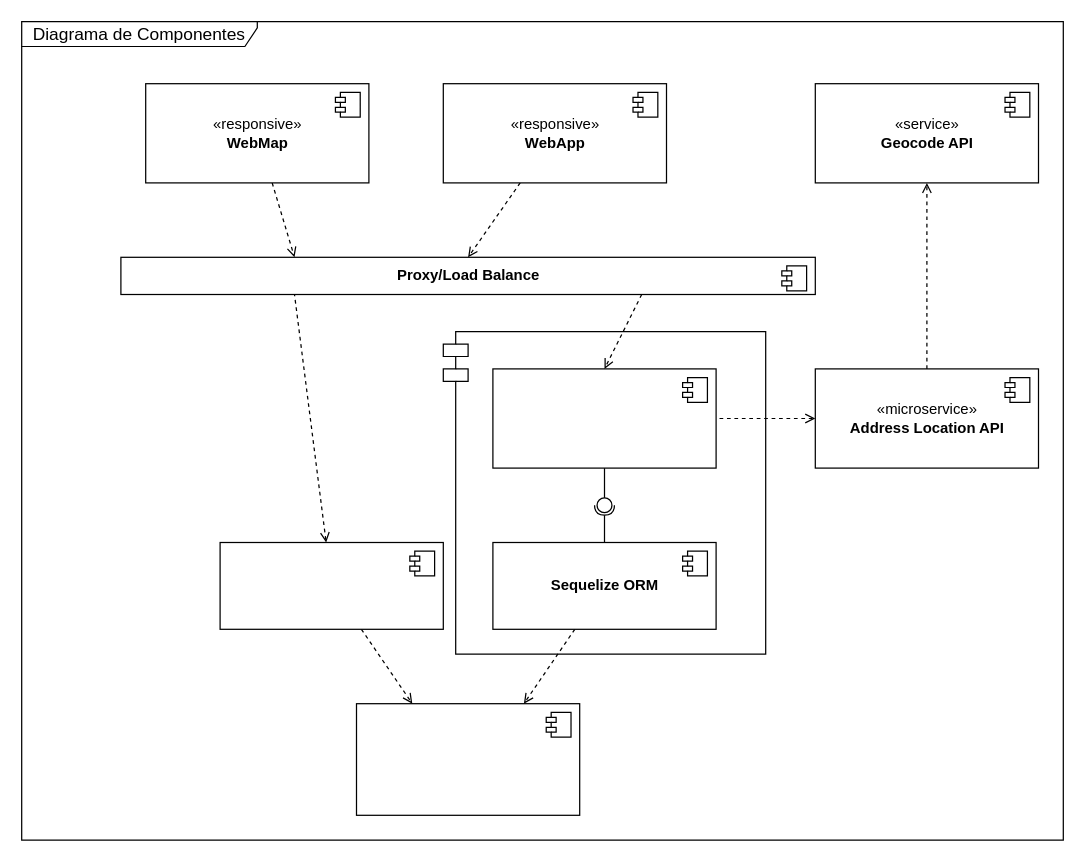
Image size: 1085x862. Some labels were removed from this diagram. Here are the shapes that lost their labels. From the top down, the centre of each, then its label:
point (604, 418): «microservice» Registry API
point (331, 585): GeoServer
point (467, 758): «database» PostgreSQL(PostGIS)
